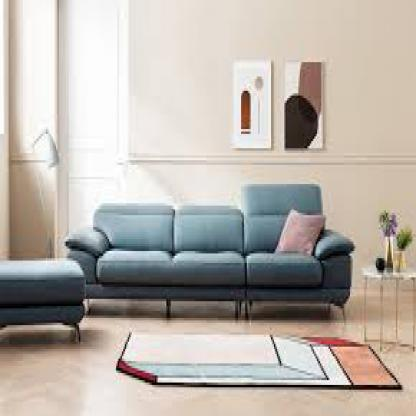sofa: (63, 179, 363, 316)
